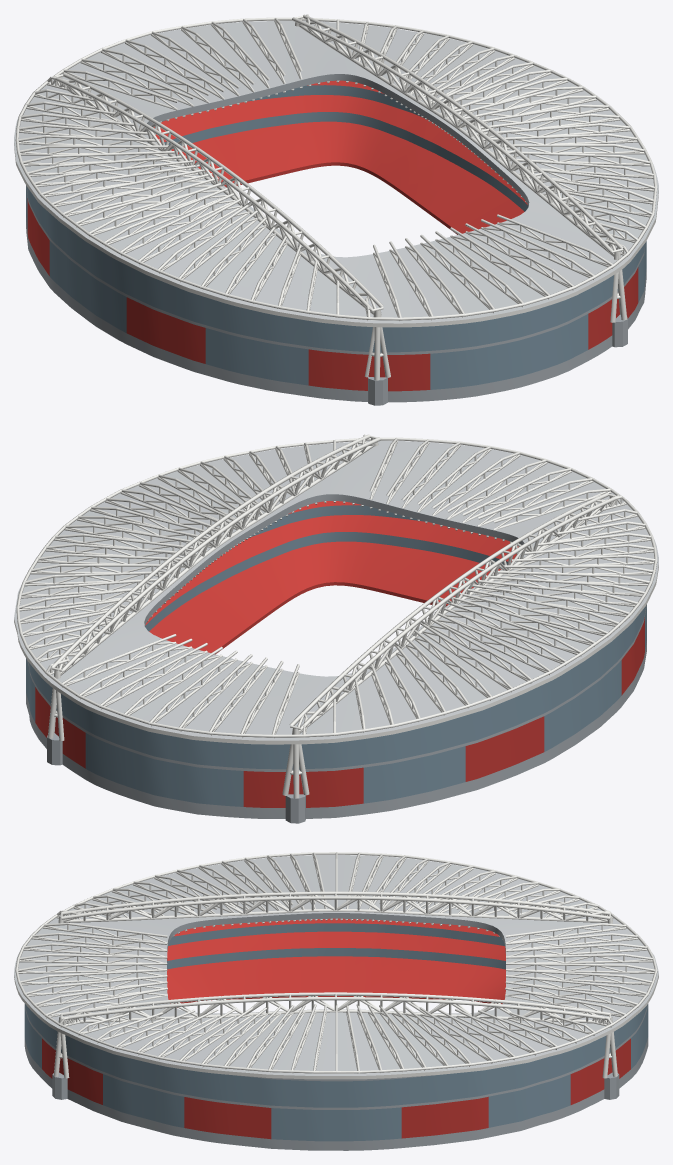
Rendered from london-emirates-stadium.detail.glb.
3 views of the same model, one above another, from view 1: azimuth 30°, elevation 25°; view 2: azimuth 150°, elevation 25°; view 3: azimuth 270°, elevation 25° (orthographic). The views are drawn at different scales.
Parts seen in each view (by area): view 1: Emirates Stadium; view 2: Emirates Stadium; view 3: Emirates Stadium.
Boxes of the visible parts, box(x1,y1,x2,y2) form: Emirates Stadium: box(14, 14, 658, 405); Emirates Stadium: box(14, 434, 658, 823); Emirates Stadium: box(14, 852, 658, 1150).
Bounding box in the file's own units: 198 × 42.22 × 244.
